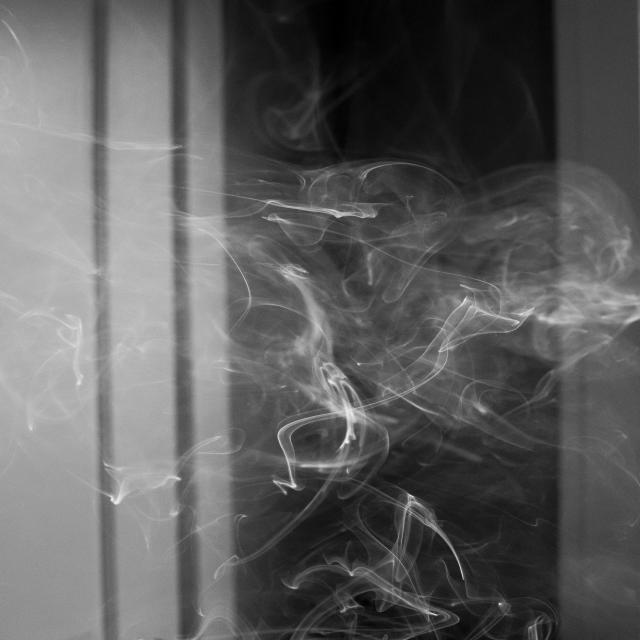smoke: (104, 128, 631, 635)
